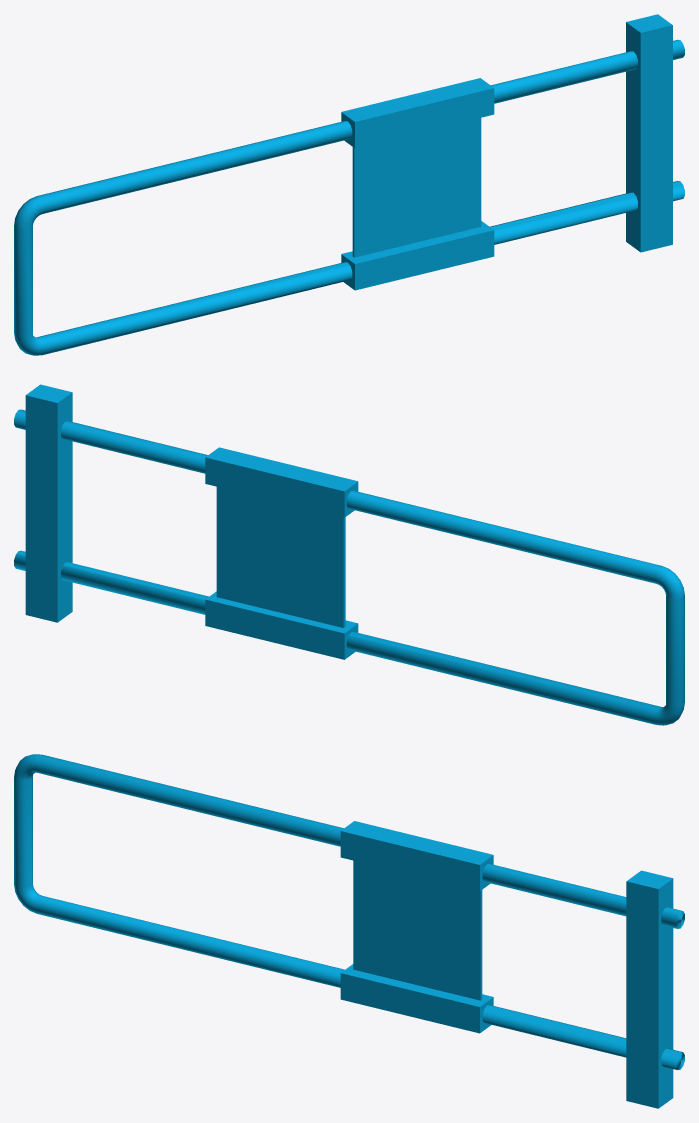
Rendered from Supermarket_Fence_02_Lod0.fbx.
The picture shows the model from 3 angles, top to bottom: view 1: azimuth 30°, elevation 25°; view 2: azimuth 150°, elevation 25°; view 3: azimuth 330°, elevation 25°; orthographic projection.
Visible parts, largest first — view 1: Supermarket_Fence_02_Lod0; view 2: Supermarket_Fence_02_Lod0; view 3: Supermarket_Fence_02_Lod0.
Part boxes in pixels (x1,y1,x2,y2): Supermarket_Fence_02_Lod0: (14,14,684,355); Supermarket_Fence_02_Lod0: (14,384,684,725); Supermarket_Fence_02_Lod0: (14,754,684,1108).
Size of the model in its own units: 86.46 by 27.28 by 3.36.
